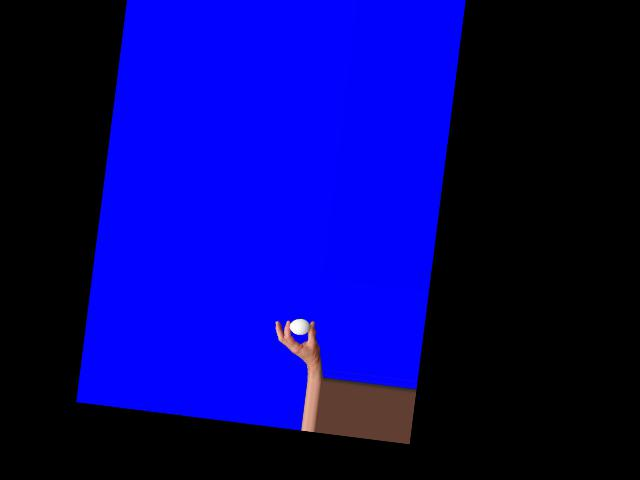egg: (288, 317, 311, 336)
